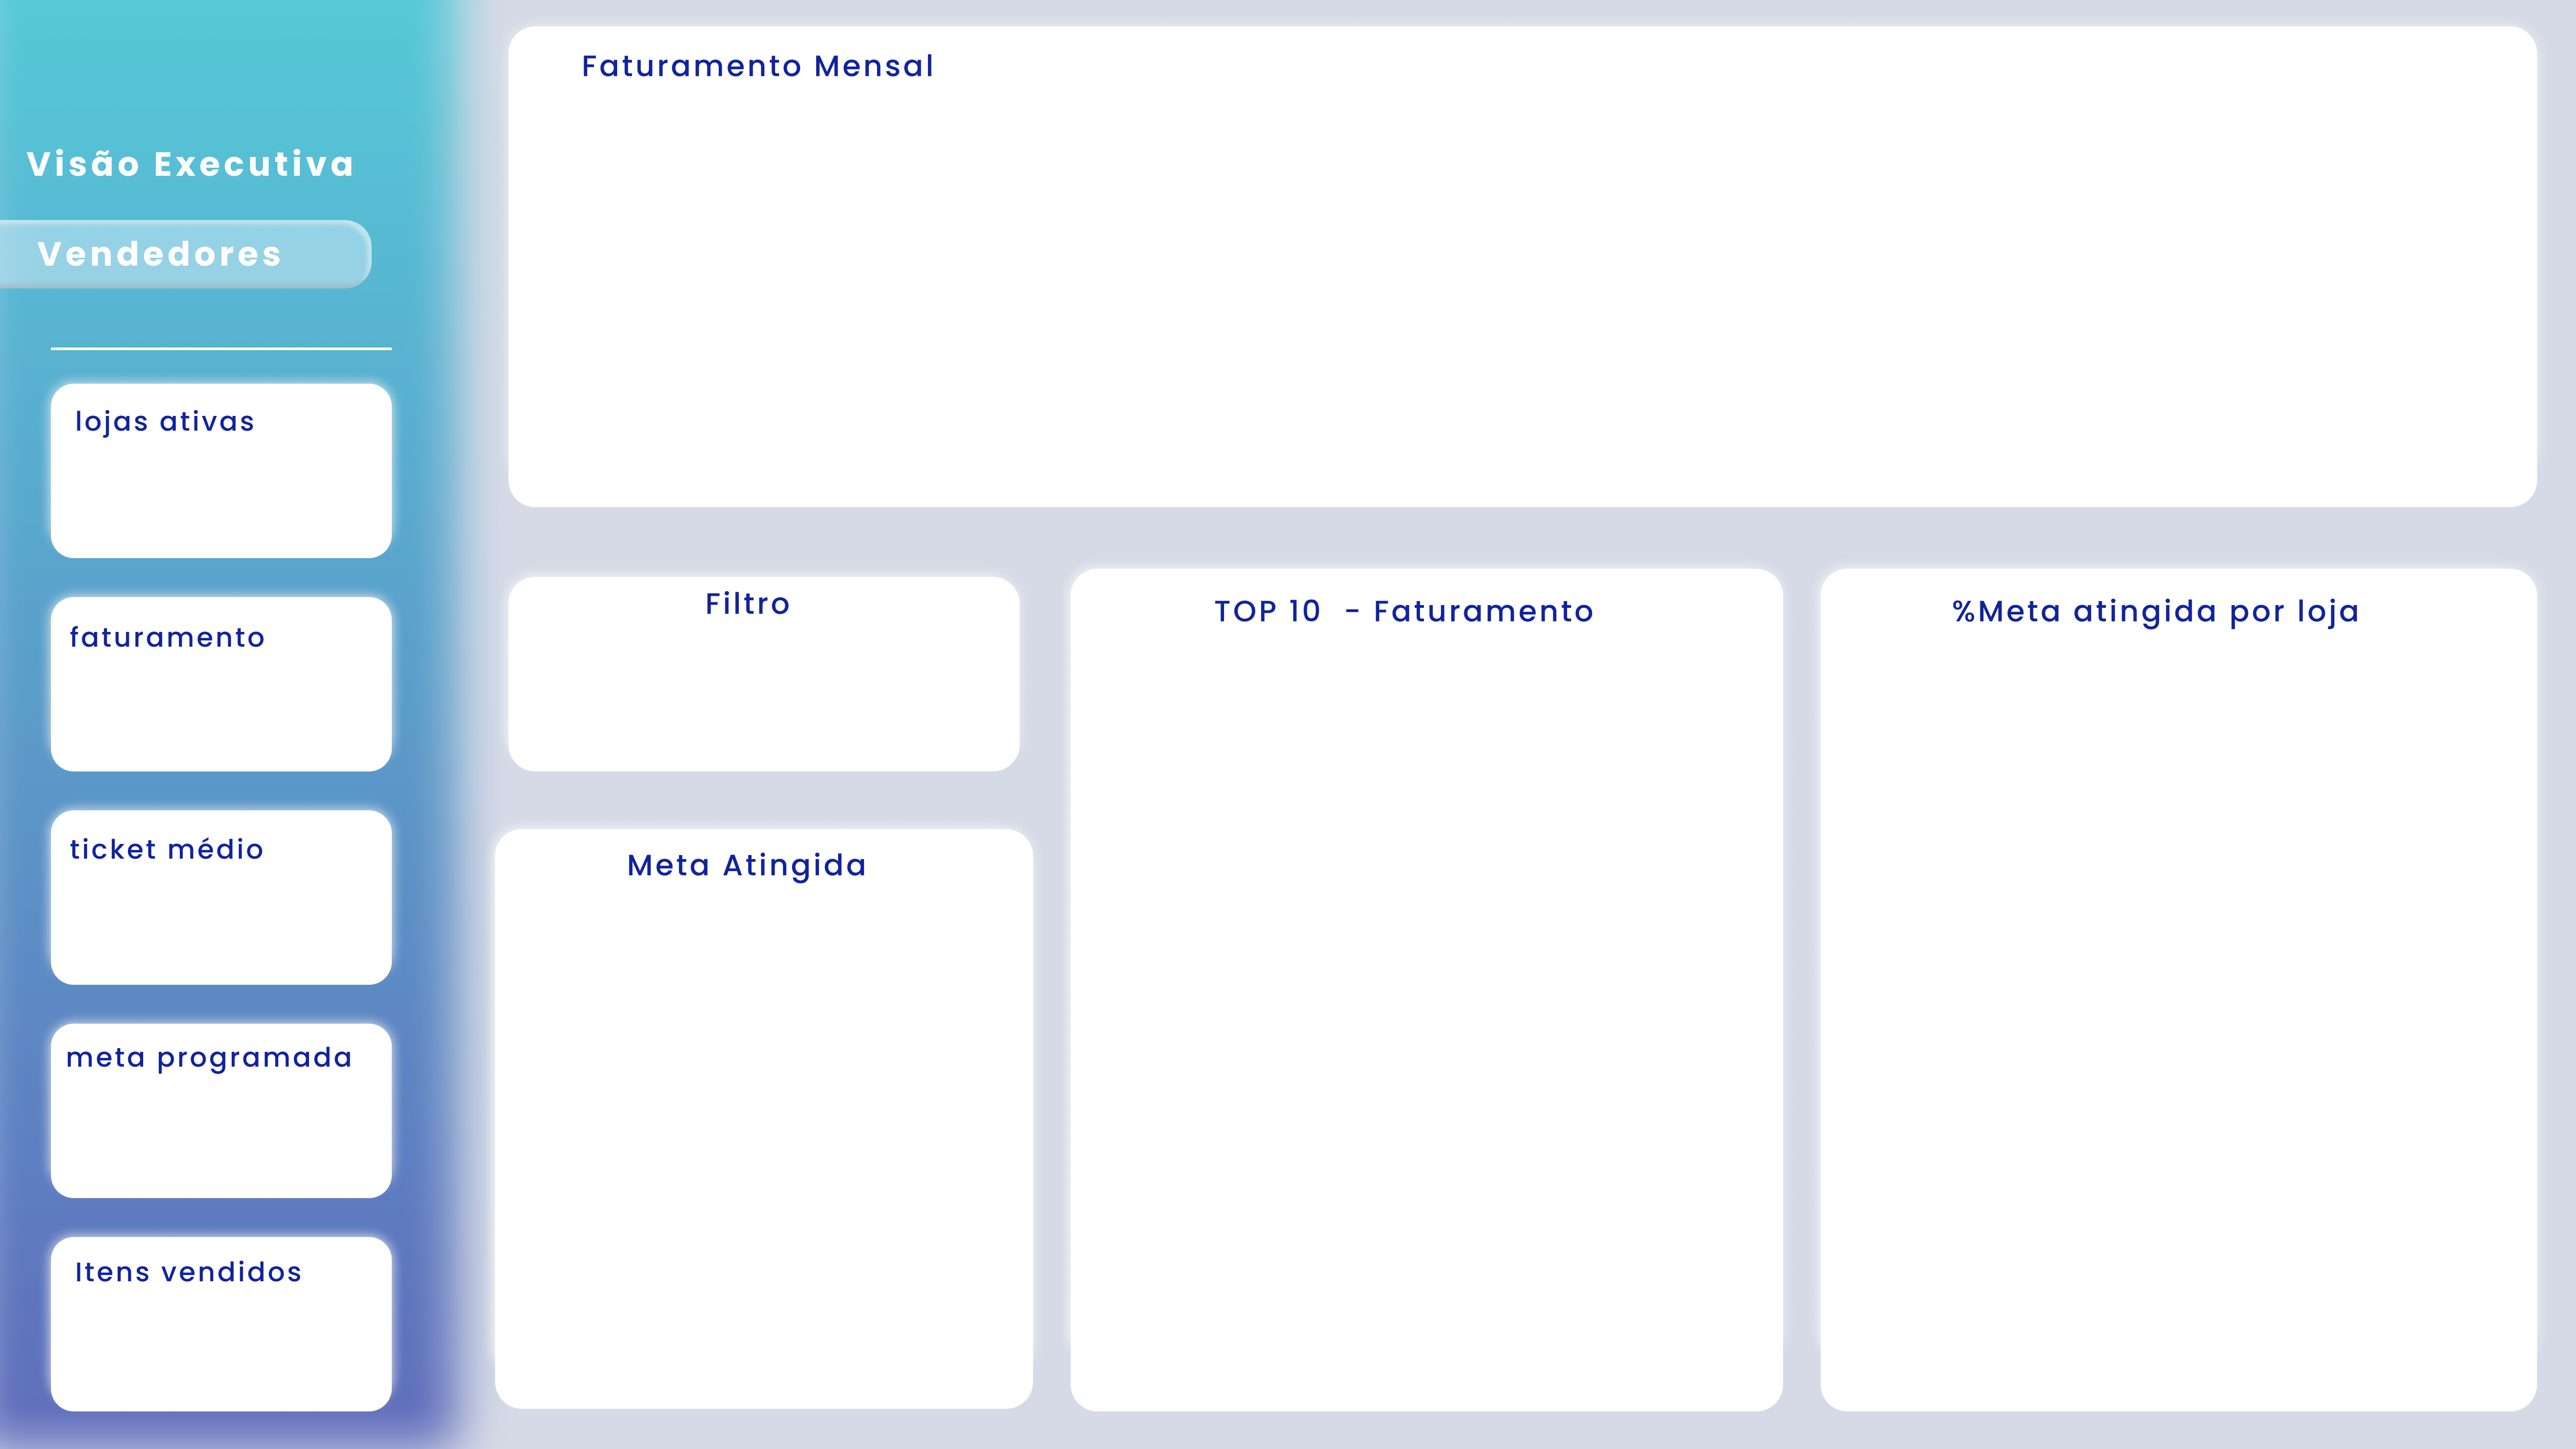

Layout of this report page (visuals, bound fields, positions):
{"tool":"powerbi","page":{"name":"Visão Executiva","canvas":[1280,720],"ordinal":0},"visuals":[{"type":"card","title":"Faturamento","fields":{"Values":["medidas.FATURAMENTO_TOTAL"]},"box":[33.3,315,150,61.7],"z":0},{"type":"lineChart","title":"Faturamento Mensal","fields":{"Category":["vendas_total.Month"],"Y":["medidas.FATURAMENTO_TOTAL"]},"box":[271.7,20,975,235],"z":1000},{"type":"card","title":"Meta Programada","fields":{"Values":["medidas.META"]},"box":[35,523.3,140,65],"z":2000},{"type":"card","title":"Ticket Médio","fields":{"Values":["medidas.TICKET_MEDIO"]},"box":[38.3,413.3,138.3,76.7],"z":3000},{"type":"barChart","title":"Top 10 lojas que mais faturam:","fields":{"Category":["lojas_ok.Store"],"Y":["medidas.FATURAMENTO_TOTAL"]},"box":[531.7,315,356.7,375],"z":4000},{"type":"actionButton","box":[0,0,100,40],"z":5000},{"type":"card","title":"Lojas ativas","fields":{"Values":["Count(lojas_ok.Store)"]},"box":[35,213.3,135,56.7],"z":6000},{"type":"clusteredBarChart","title":"% de Meta por Loja","fields":{"Y":["medidas.META_ATINGIDA"],"Category":["lojas_ok.Store"]},"box":[908.3,315,371.7,375],"z":7000},{"type":"slicer","fields":{"Values":["lojas_ok.State","lojas_ok.Store"]},"box":[275,315,211.7,45],"z":8000},{"type":"card","title":"Itens Vendidos","fields":{"Values":["medidas.TOTAL_ITENS"]},"box":[35,630,145,60],"z":9000},{"type":"gauge","title":"% Atingida","fields":{"Y":["medidas.META_ATINGIDA"]},"box":[271.7,450,218.3,196.7],"z":10000},{"type":"actionButton","box":[0,105,175,33.3],"z":11000}]}

Visuals, with their boxes in screenshot pixels (x1, y1, x2, y2), scaled from the page's 1280x720 canvas onto the 2576x1449 screenshot:
"Faturamento" card: crop(67, 634, 369, 758)
"Faturamento Mensal" lineChart: crop(547, 40, 2509, 513)
"Meta Programada" card: crop(71, 1053, 352, 1184)
"Ticket Médio" card: crop(77, 832, 356, 986)
"Top 10 lojas que mais faturam:" barChart: crop(1070, 634, 1788, 1389)
actionButton: crop(0, 0, 201, 80)
"Lojas ativas" card: crop(71, 429, 342, 543)
"% de Meta por Loja" clusteredBarChart: crop(1828, 634, 2576, 1389)
slicer - lojas_ok.State x lojas_ok.Store: crop(554, 634, 979, 724)
"Itens Vendidos" card: crop(71, 1268, 362, 1389)
"% Atingida" gauge: crop(547, 906, 986, 1301)
actionButton: crop(0, 211, 352, 278)
